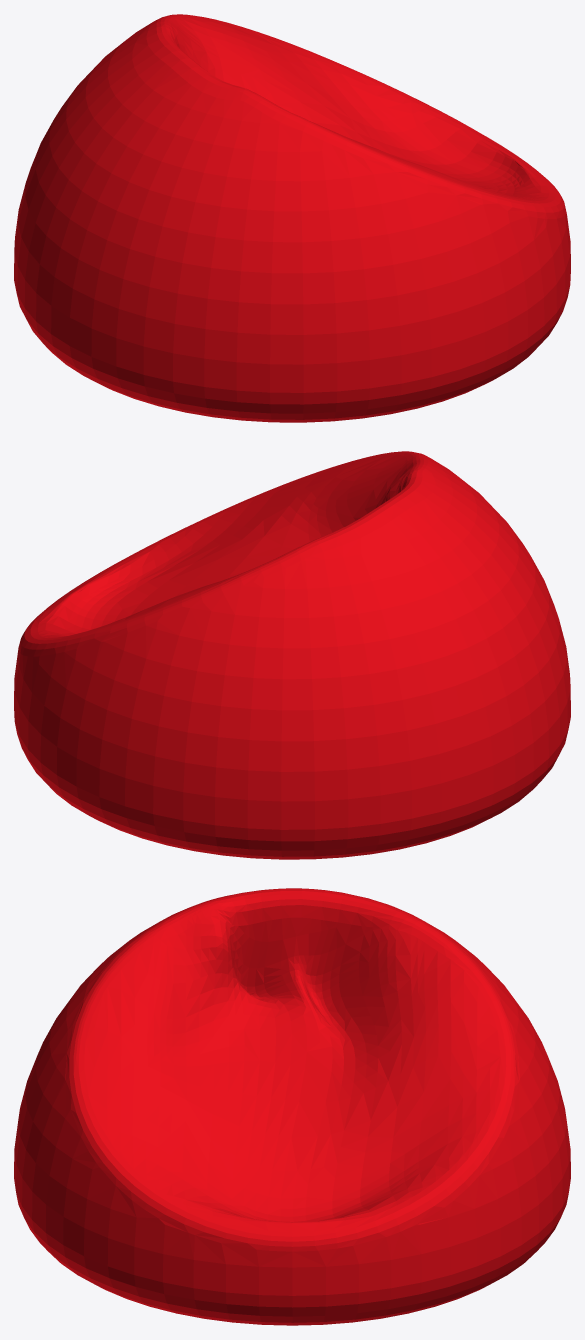
Rendered from bean_bag.dae.
The picture shows the model from 3 angles, top to bottom: view 1: azimuth 30°, elevation 25°; view 2: azimuth 150°, elevation 25°; view 3: azimuth 270°, elevation 25°; orthographic projection.
Visible parts, largest first — view 1: Bean Bag; view 2: Bean Bag; view 3: Bean Bag.
Part boxes in pixels (x1,y1,x2,y2): Bean Bag: (14,14,570,422); Bean Bag: (14,451,570,859); Bean Bag: (14,888,570,1325).
Bounding box in the file's own units: 0.9989 × 0.9989 × 0.5658.
